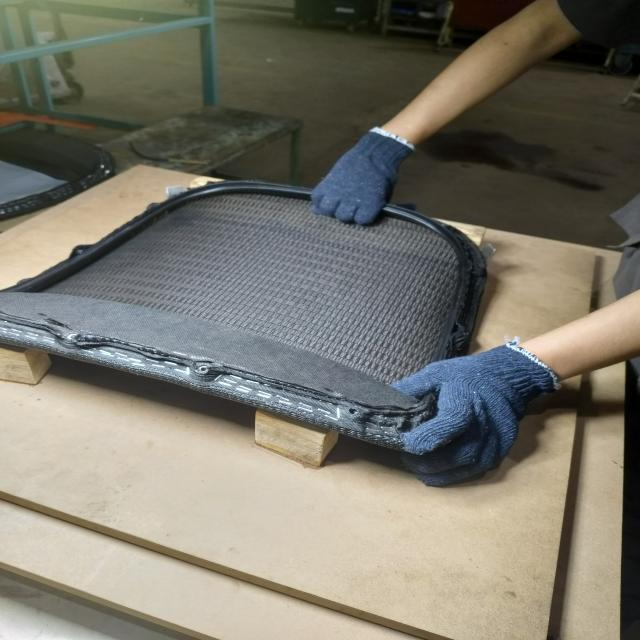Gloves-Detection: (398, 348, 562, 483), (305, 123, 402, 222)
